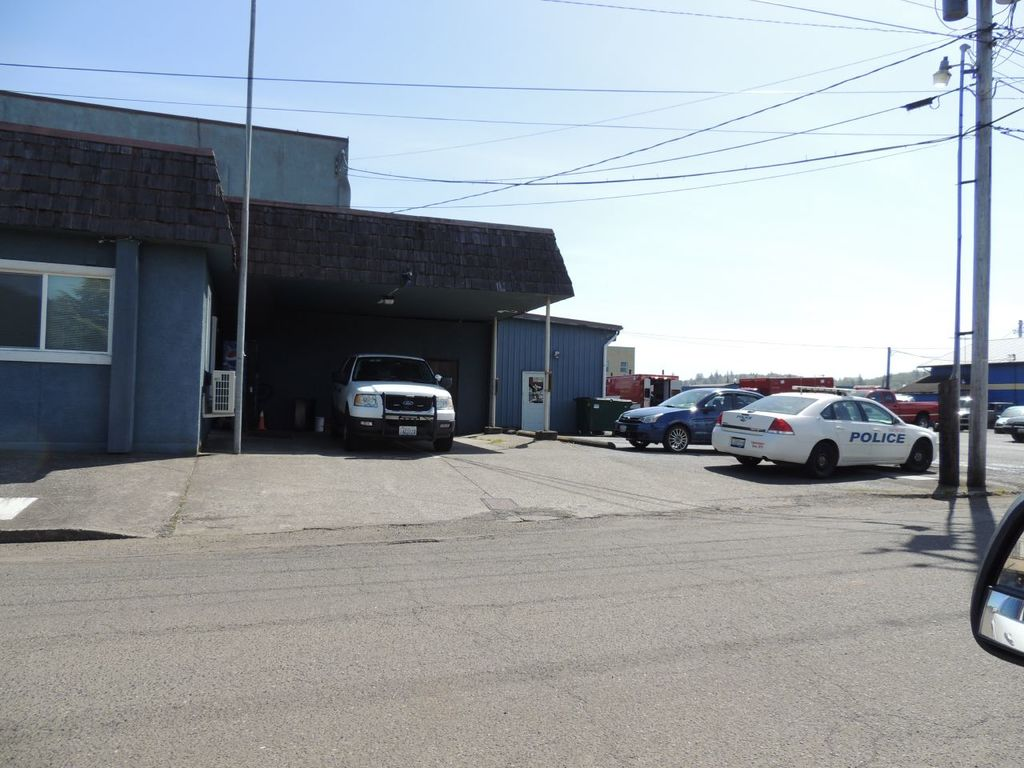Car: (710, 384, 940, 475), (328, 351, 456, 448), (615, 383, 763, 454), (994, 404, 1023, 443), (983, 399, 1014, 426), (952, 394, 971, 426)
